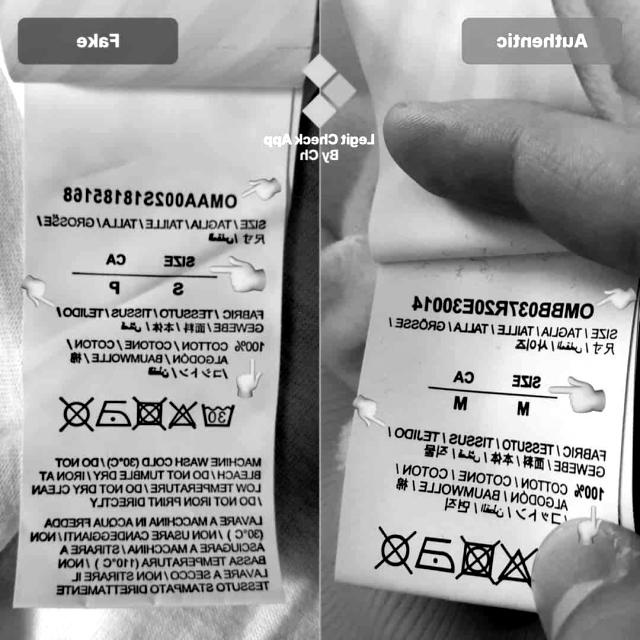30C: (198, 395, 236, 430)
DN_bleach: (498, 541, 533, 588), (168, 398, 196, 433)
DN_dry_clean: (374, 523, 419, 580), (54, 392, 95, 435)
DN_tumble_dry: (454, 532, 500, 588), (131, 394, 166, 434)
iron_low: (413, 533, 456, 576), (94, 395, 128, 431)
